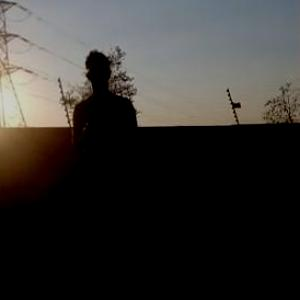follow: (70, 44, 172, 287)
